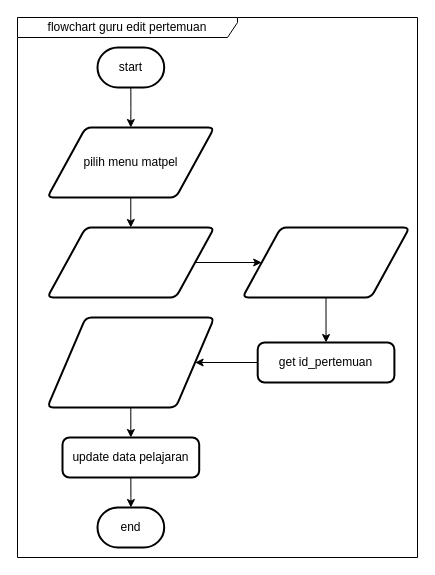
The diagram is 435 pixels wide and 575 high, and some of its shapes have lost their labels. Each missing label, with the centre of its shape:
"masukan : judul pertemuan link zoom, materi" belongs at (x=130, y=362).
"pilih pelajaran" belongs at (x=130, y=262).
"pilih pertemuan" belongs at (x=325, y=262).
